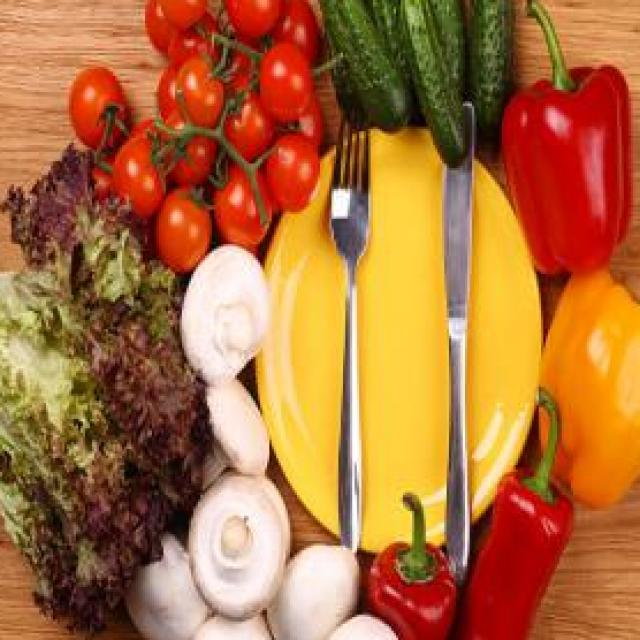knife: (442, 115, 472, 553)
